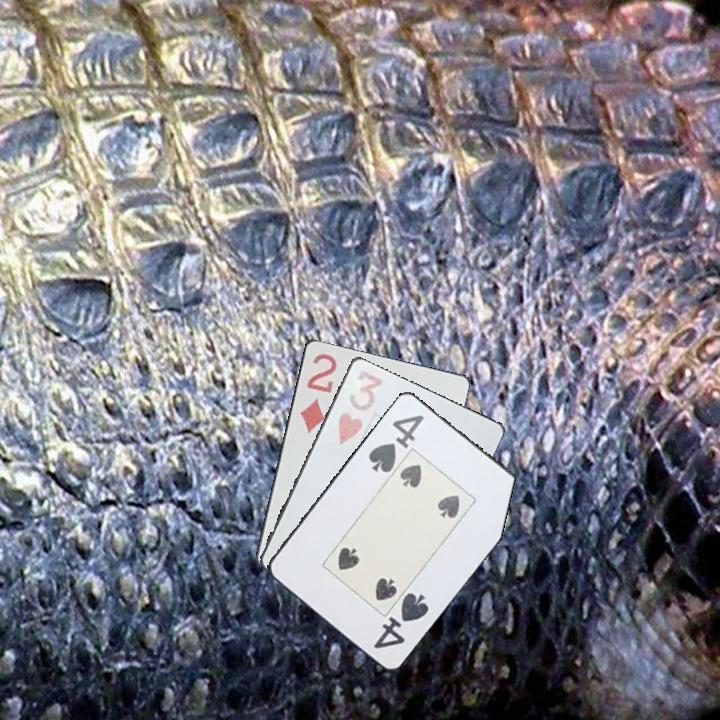2d: (296, 349, 339, 436)
3h: (333, 366, 386, 447)
4s: (365, 411, 428, 476), (369, 588, 432, 651)
